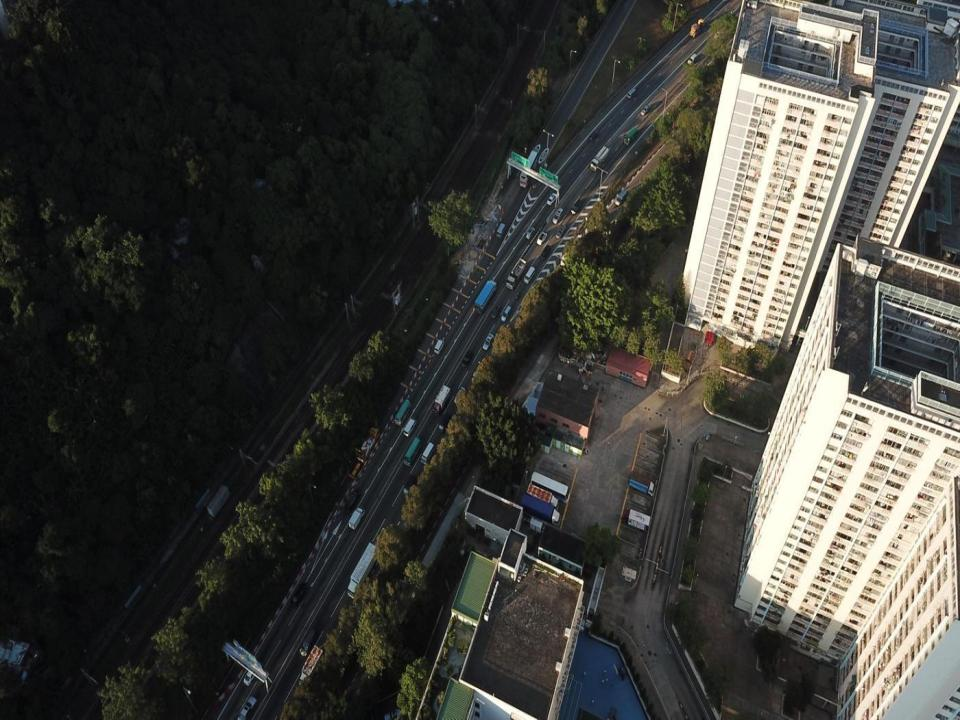bus: (530, 472, 571, 502), (518, 152, 538, 186), (402, 437, 420, 465), (396, 399, 410, 424)
car: (237, 696, 256, 719), (345, 490, 359, 514), (292, 584, 306, 608), (244, 664, 257, 686), (453, 387, 465, 406), (482, 334, 494, 349), (555, 223, 566, 239), (490, 304, 503, 316), (439, 416, 450, 430), (536, 231, 547, 245), (540, 245, 551, 258), (571, 200, 582, 213), (462, 353, 470, 368), (526, 227, 535, 240), (546, 194, 557, 204), (588, 130, 597, 142), (642, 103, 650, 114)
truck: (347, 426, 379, 481), (347, 543, 377, 598), (521, 494, 562, 528), (526, 482, 560, 511), (298, 645, 321, 686), (474, 279, 496, 313), (622, 508, 650, 532), (629, 472, 655, 496), (506, 258, 525, 290), (590, 144, 610, 170), (433, 386, 450, 416), (690, 20, 704, 38)
van: (300, 630, 315, 657), (348, 507, 364, 530), (420, 443, 434, 464), (403, 475, 416, 497), (404, 417, 416, 436), (523, 267, 536, 283), (615, 190, 628, 205), (624, 128, 636, 144), (553, 207, 563, 224), (502, 306, 510, 323), (434, 339, 444, 352), (496, 223, 504, 236), (688, 53, 696, 66), (628, 88, 636, 100)
